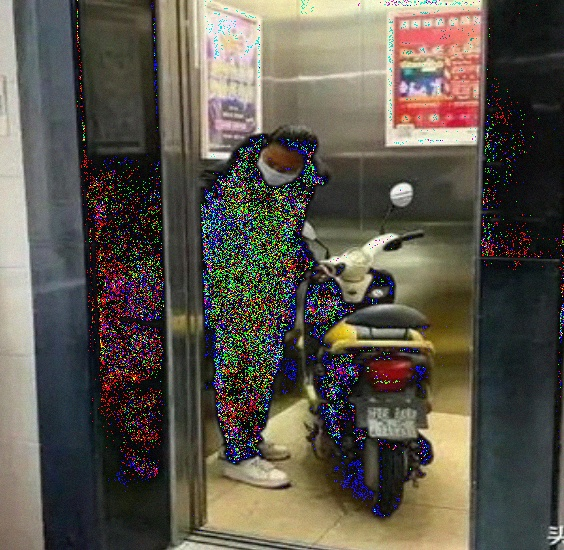ebike: (297, 181, 425, 524)
person: (204, 125, 329, 487)
